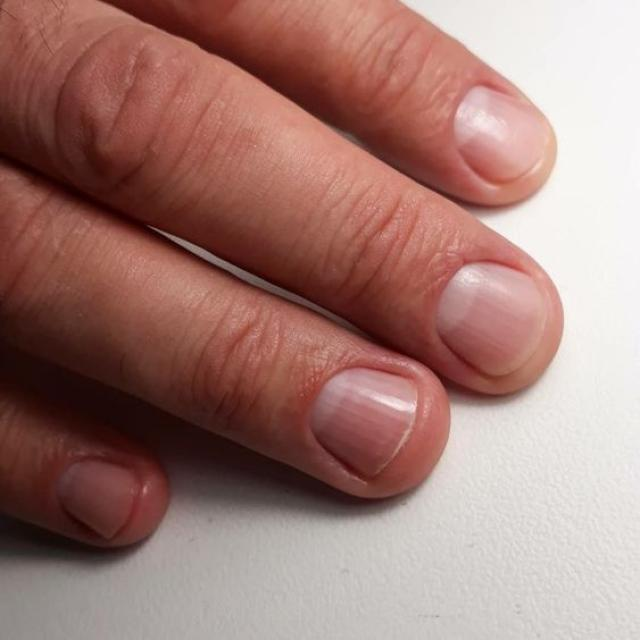Fingernail: (437, 264, 548, 377), (313, 368, 419, 480), (453, 85, 547, 183), (59, 460, 137, 541)
